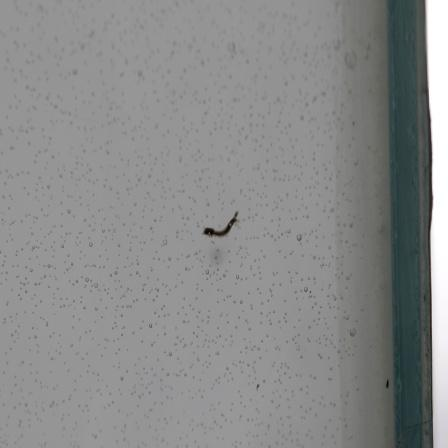Jentik-Nyamuk: (198, 207, 246, 242)
